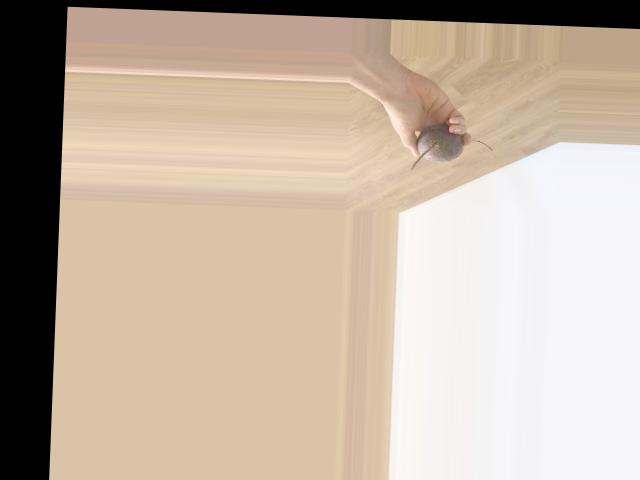beet: (411, 123, 494, 172)
